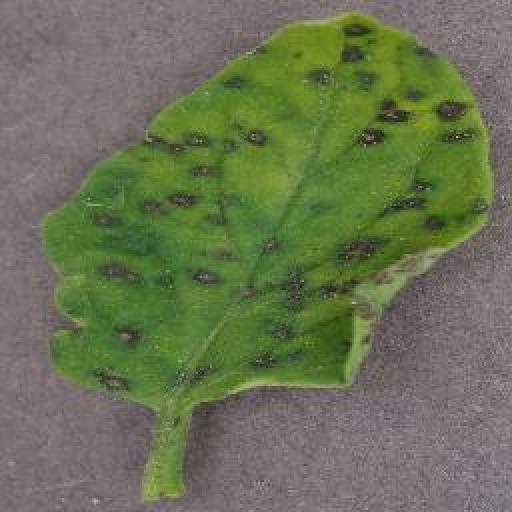disease_tomato: (40, 11, 494, 409)
